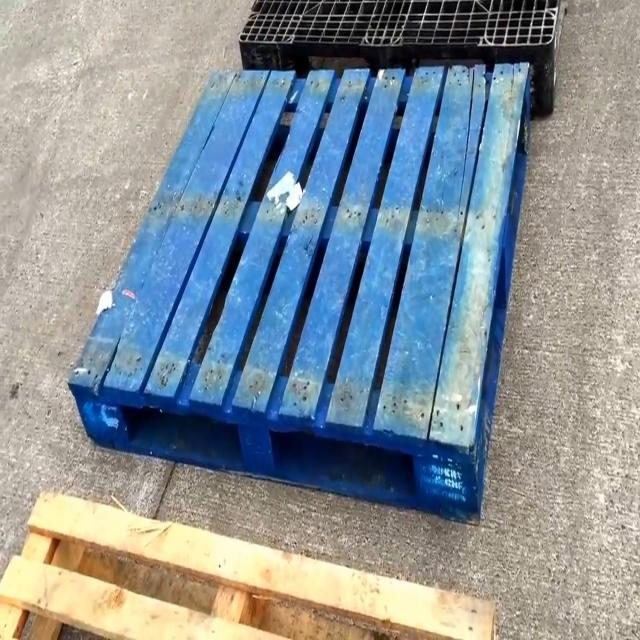Palette: (68, 62, 532, 536), (1, 489, 497, 640), (235, 0, 572, 129)
